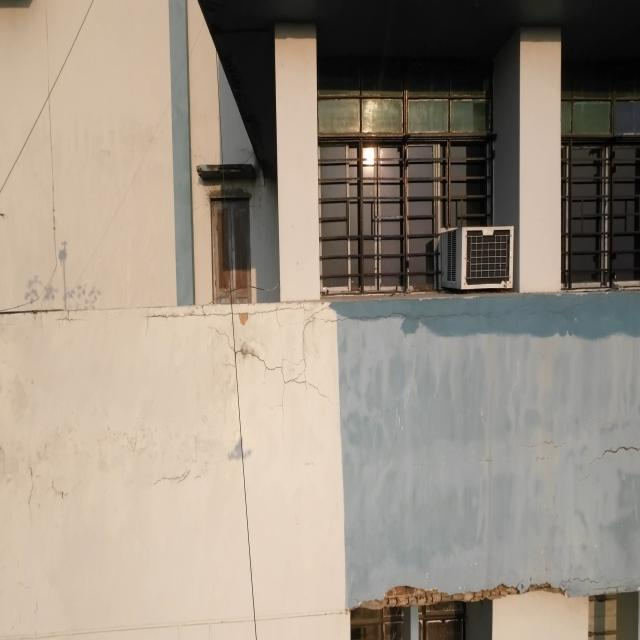crack: (330, 298, 640, 340), (233, 303, 339, 408), (138, 304, 244, 351), (28, 453, 40, 528), (591, 447, 640, 463), (151, 469, 190, 484), (56, 311, 86, 321)
